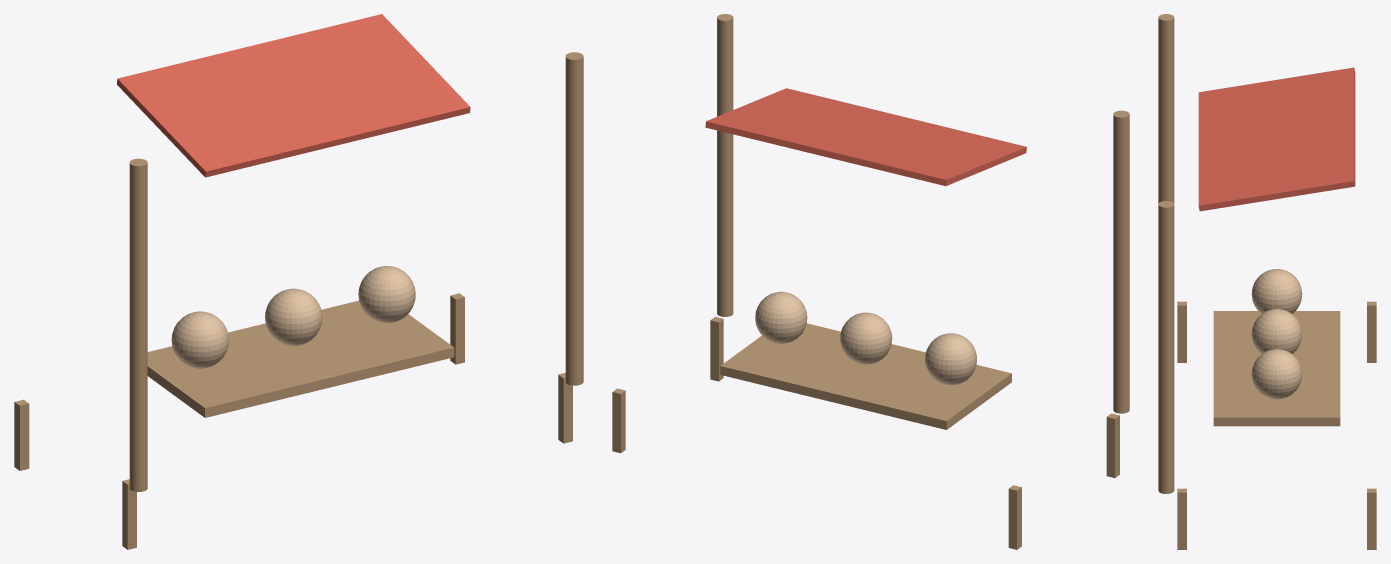
Rendered from market_stall.glb.
3 renders of one model, left to right at view 1: azimuth 30°, elevation 25°; view 2: azimuth 150°, elevation 25°; view 3: azimuth 270°, elevation 25°, orthographic. The views are drawn at different scales.
Visible parts, largest first — view 1: Cube.005, Cube, Cylinder.001, Cylinder, Sphere.002, Sphere, Sphere.001, Cube.002, Cube.004, Cube.003, Cube.001; view 2: Cube.005, Cube, Cylinder, Cylinder.001, Sphere.001, Sphere.002, Sphere, Cube.004, Cube.002, Cube.001, Cube.003; view 3: Cube.005, Cube, Cylinder.001, Cylinder, Sphere.002, Sphere.001, Sphere, Cube.001, Cube.002, Cube.003, Cube.004.
Boxes of the visible parts, left/top/right/bottom form: Cube.005: left=117, top=14, right=470, bottom=177; Cube: left=147, top=300, right=454, bottom=417; Cylinder.001: left=565, top=52, right=583, bottom=385; Cylinder: left=129, top=158, right=147, bottom=491; Sphere.002: left=358, top=266, right=415, bottom=323; Sphere: left=171, top=311, right=228, bottom=368; Sphere.001: left=265, top=288, right=322, bottom=345; Cube.002: left=14, top=399, right=29, bottom=470; Cube.004: left=450, top=293, right=464, bottom=364; Cube.003: left=558, top=372, right=572, bottom=443; Cube.001: left=122, top=479, right=136, bottom=549; Cube.005: left=705, top=88, right=1026, bottom=186; Cube: left=720, top=323, right=1011, bottom=429; Cylinder: left=1113, top=110, right=1129, bottom=413; Cylinder.001: left=717, top=14, right=733, bottom=316; Sphere.001: left=840, top=312, right=892, bottom=364; Sphere.002: left=755, top=291, right=807, bottom=343; Sphere: left=925, top=333, right=976, bottom=385; Cube.004: left=612, top=388, right=625, bottom=453; Cube.002: left=1008, top=485, right=1021, bottom=549; Cube.001: left=1106, top=413, right=1119, bottom=477; Cube.003: left=710, top=316, right=723, bottom=381; Cube.005: left=1198, top=67, right=1355, bottom=211; Cube: left=1213, top=311, right=1340, bottom=426; Cylinder.001: left=1158, top=201, right=1174, bottom=493; Cylinder: left=1158, top=14, right=1174, bottom=203; Sphere.002: left=1251, top=349, right=1302, bottom=399; Sphere.001: left=1251, top=309, right=1302, bottom=353; Sphere: left=1251, top=269, right=1302, bottom=313; Cube.001: left=1177, top=301, right=1186, bottom=362; Cube.002: left=1367, top=301, right=1376, bottom=362; Cube.003: left=1177, top=488, right=1186, bottom=549; Cube.004: left=1367, top=488, right=1376, bottom=549.
Size of the model in its own units: 1.45 by 1.2 by 0.69.
